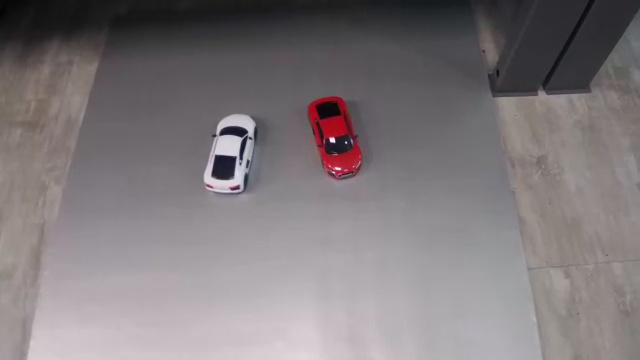car: (202, 114, 257, 194), (309, 97, 363, 178)
